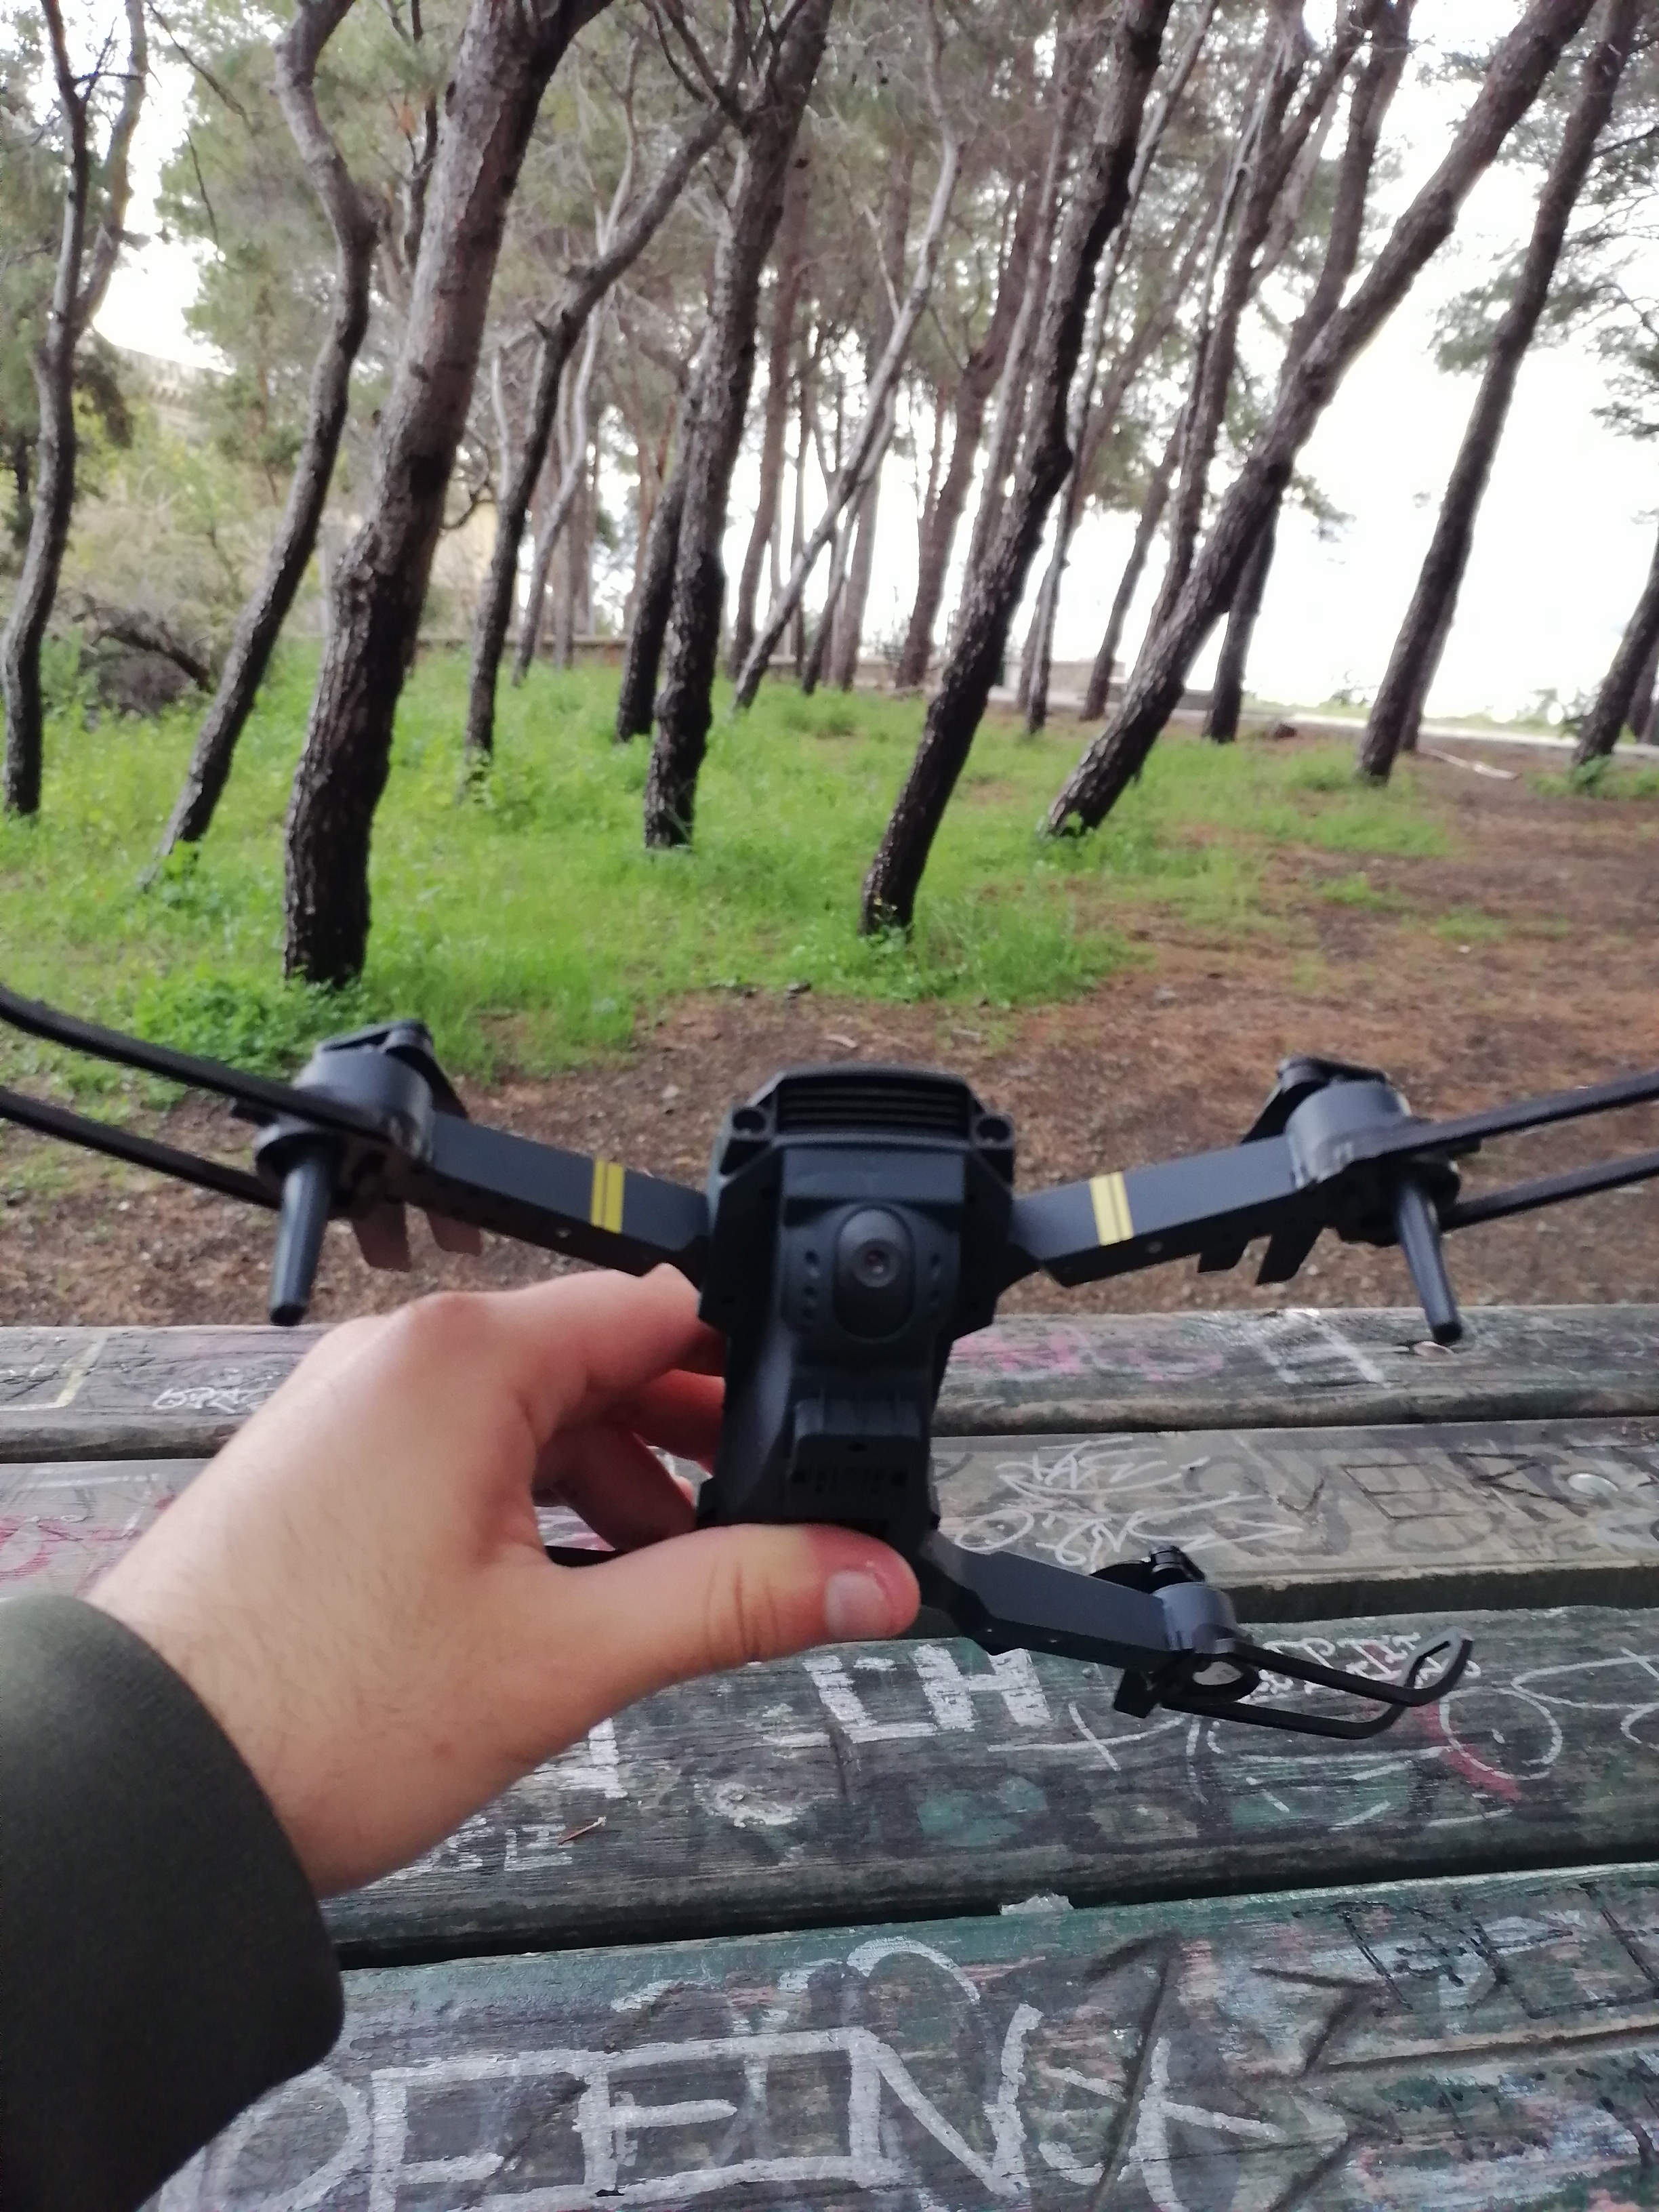drone: (119, 866, 1586, 1848)
